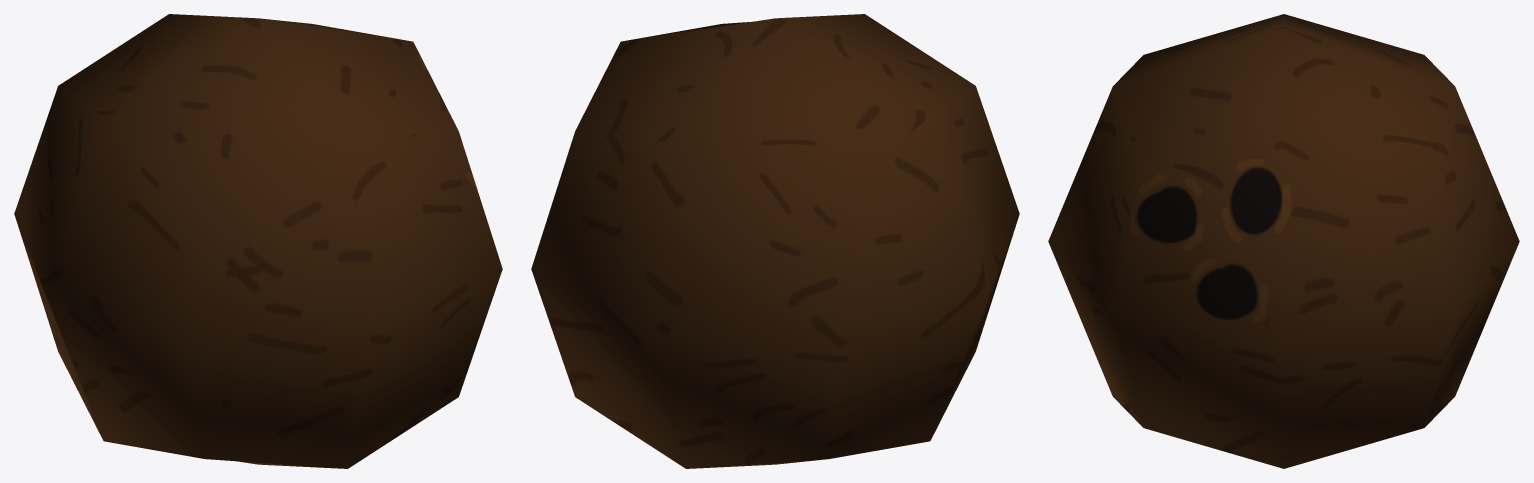
Rendered from coco pronto.fbx.
3 views of the same model, side by side, from view 1: azimuth 30°, elevation 25°; view 2: azimuth 150°, elevation 25°; view 3: azimuth 270°, elevation 25° (orthographic). The views are drawn at different scales.
Visible parts, largest first — view 1: Cube; view 2: Cube; view 3: Cube.
Part boxes in pixels (<box>): Cube: <box>14,14,502,468</box>; Cube: <box>531,14,1019,468</box>; Cube: <box>1048,14,1519,468</box>.
Bounding box in the file's own units: 168 × 168 × 168.
